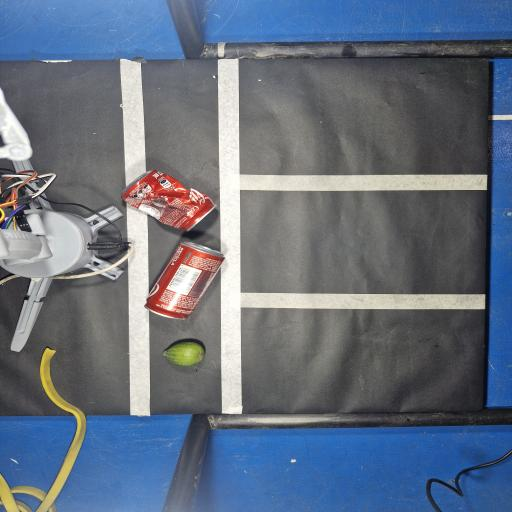higo: (163, 341, 204, 366)
lata: (146, 242, 224, 318)
lata_defectuoso: (122, 171, 215, 230)
